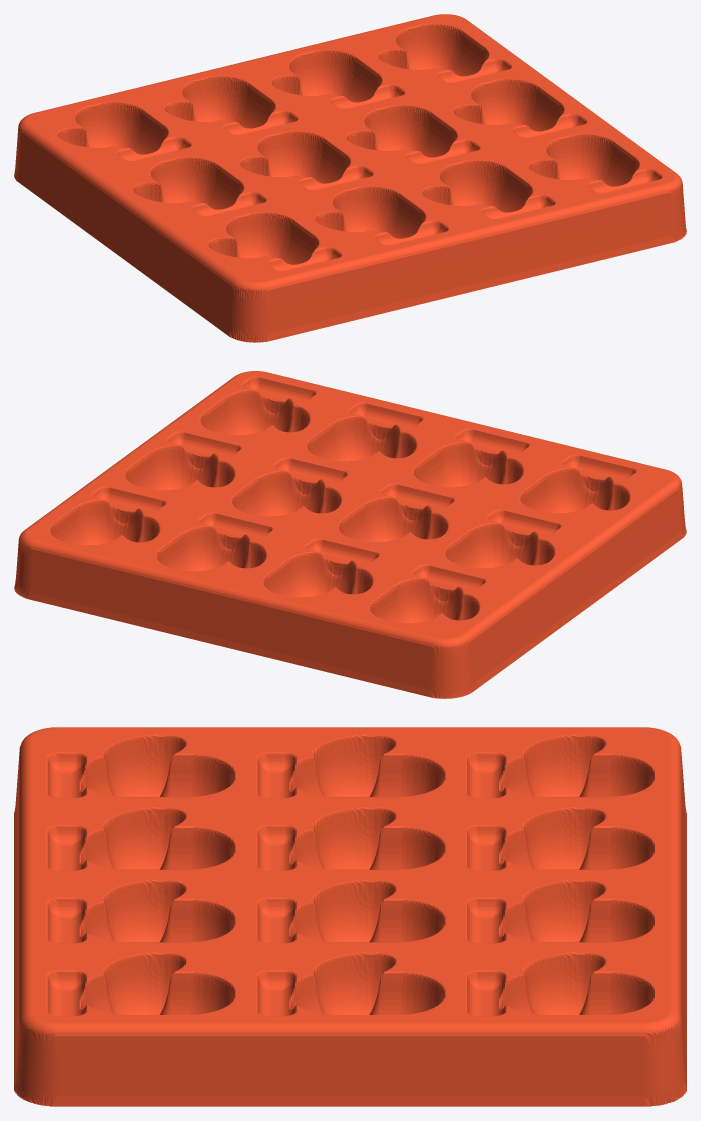
The model's file is mold.glb.
The picture shows the model from 3 angles, top to bottom: view 1: azimuth 30°, elevation 25°; view 2: azimuth 150°, elevation 25°; view 3: azimuth 270°, elevation 25°; orthographic projection. The views are drawn at different scales.
Visible parts, largest first — view 1: geometry_0; view 2: geometry_0; view 3: geometry_0.
Part boxes in pixels (x1,y1,x2,y2): geometry_0: [14, 14, 686, 342]; geometry_0: [14, 371, 686, 698]; geometry_0: [14, 727, 686, 1106].
Bounding box in the file's own units: 0.1509 × 0.0175 × 0.1389.
